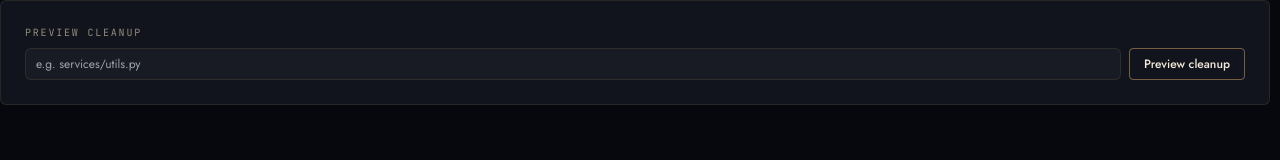
Scenario: Ticket F-UI · SimplifyFilePanel › shows 'already clean' and no Apply button when there is nothing to simplify
The image size is (1280, 160).
Type "clean.py" into the field with test id "simplify-file-path-input".
click(573, 64); type("clean.py")  # box [25, 48, 1121, 80]
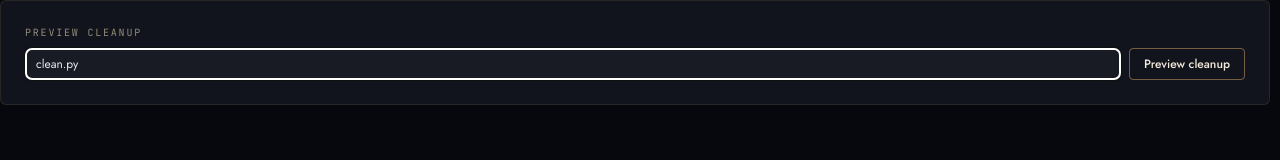
Click the button with test id "simplify-file-preview-btn".
click(1187, 64)  # box [1129, 48, 1245, 80]
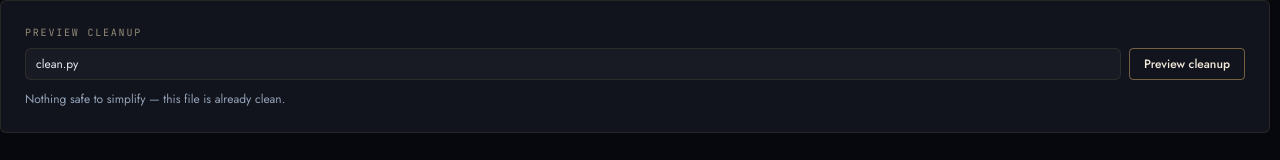
Expected: the text "Nothing safe to simplify — this file is already clean." is shown, [25, 90, 285, 108]
